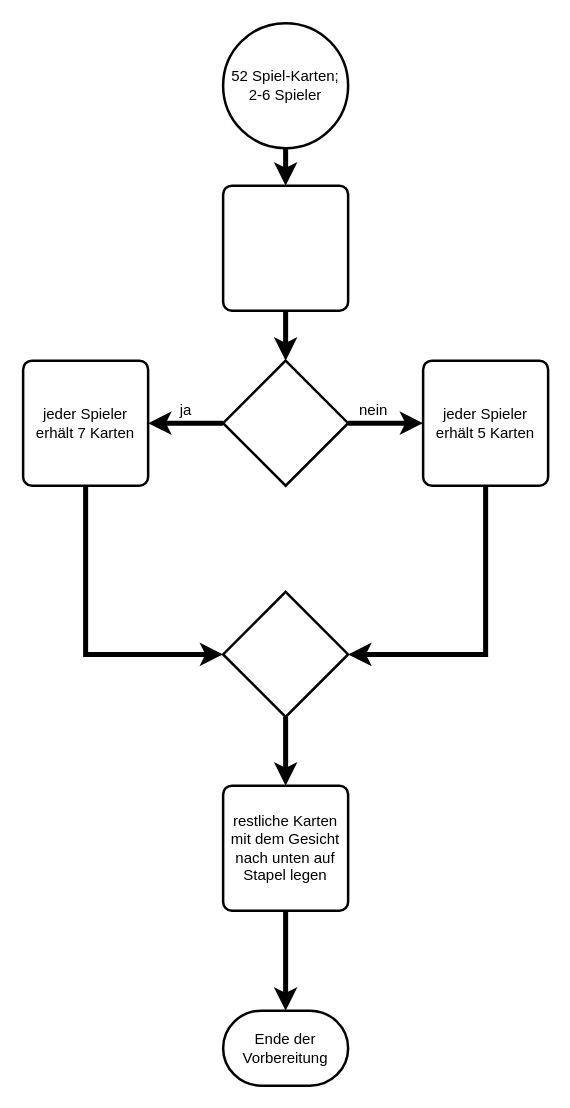
Image size: 570x1108. Some labels were removed from this diagram. Each missing label, with the centre of its shape:
Anzahl Spieler <4: [285,422]
Karten mischen: [285,247]
